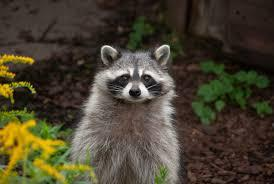raccoon: (60, 34, 192, 184)
